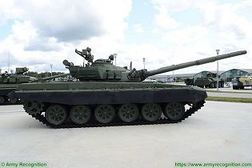t72: (18, 49, 246, 126)
